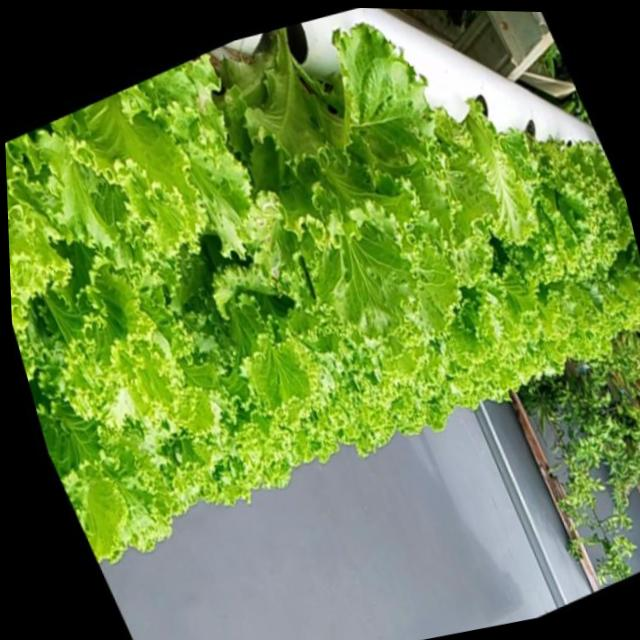Mature: (5, 31, 637, 569), (205, 43, 437, 338), (448, 127, 628, 324)
